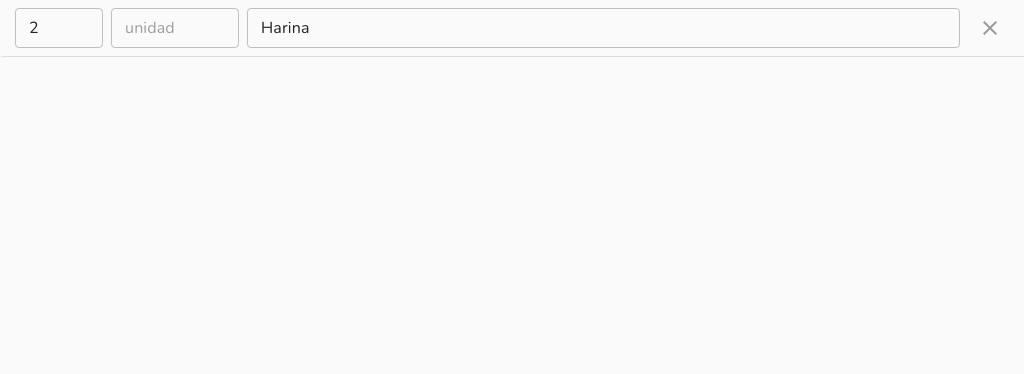
Test case: the Check tab in Spanish › should list every unit by its Spanish label, in the plural a list wants
What coordinates should you click on to do the following:
click the dropdown named "Unidad del ingrediente 1"
I would click on:
 (174, 28)
Its box is top-left (117, 14), bottom-right (230, 42).
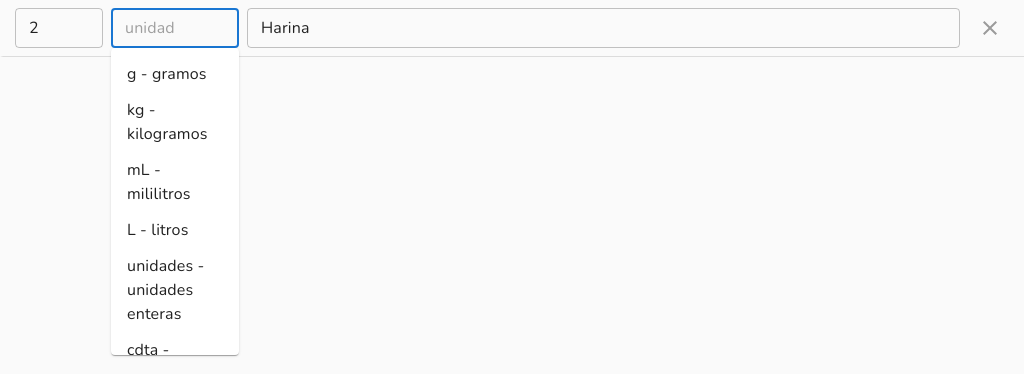
expect the option "unidades - unidades enteras" is shown: met, box top-left (127, 255), bottom-right (204, 325)
